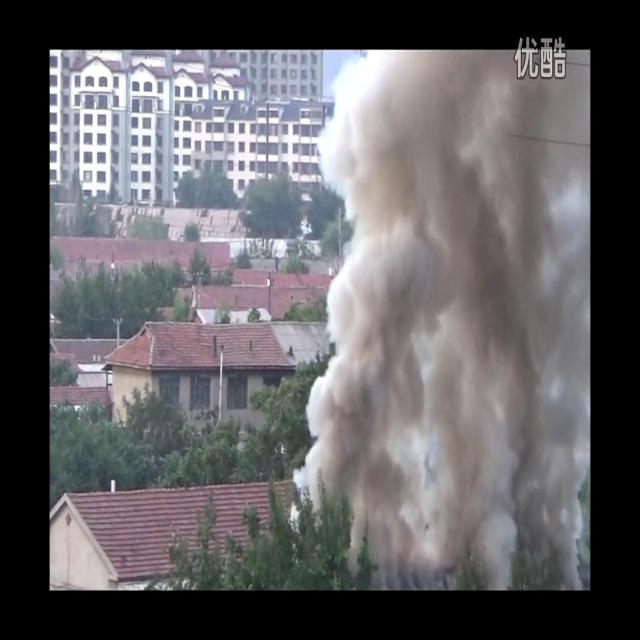Smoke: (288, 51, 590, 591)
